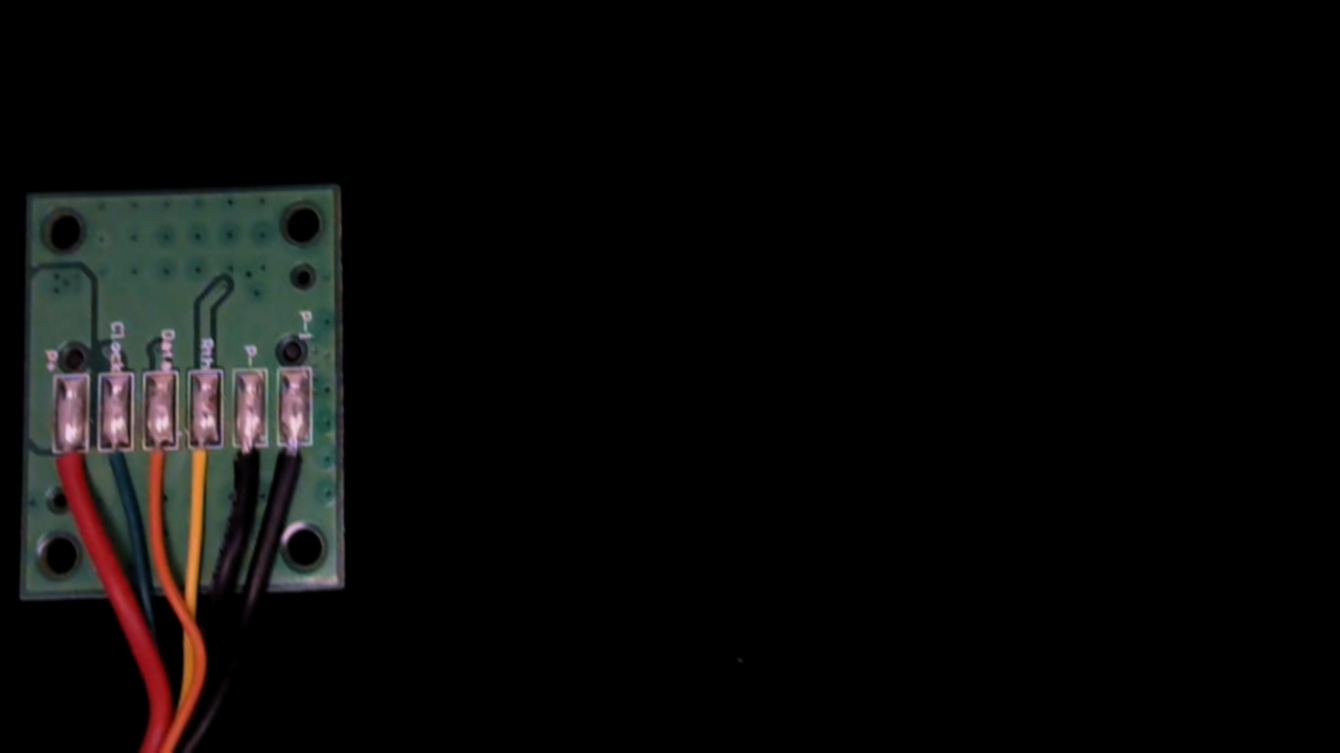Black: (228, 430, 264, 515)
Black1: (275, 430, 313, 512)
Green: (93, 432, 135, 517)
Orange: (140, 431, 179, 520)
Red: (48, 436, 89, 521)
Yellow: (181, 432, 222, 523)
